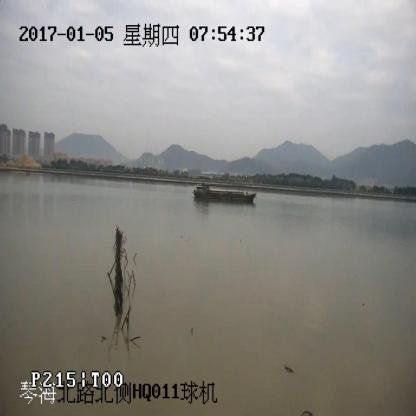Bulk Carrier: (193, 184, 256, 202)
